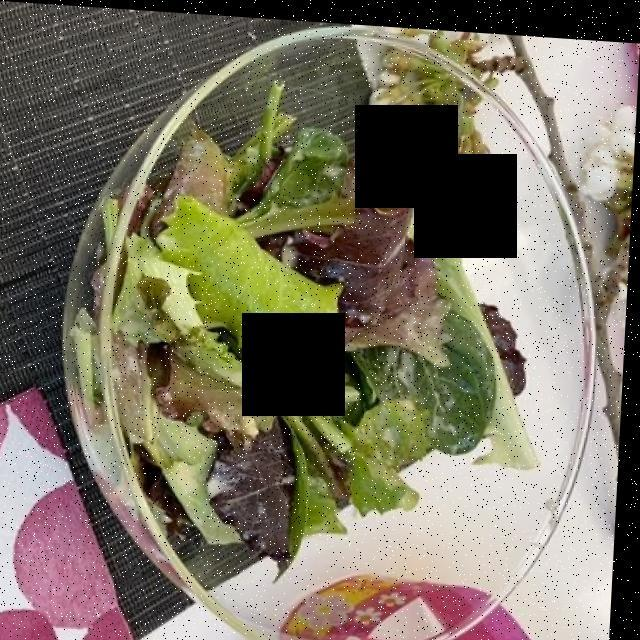salad: (144, 87, 540, 562)
